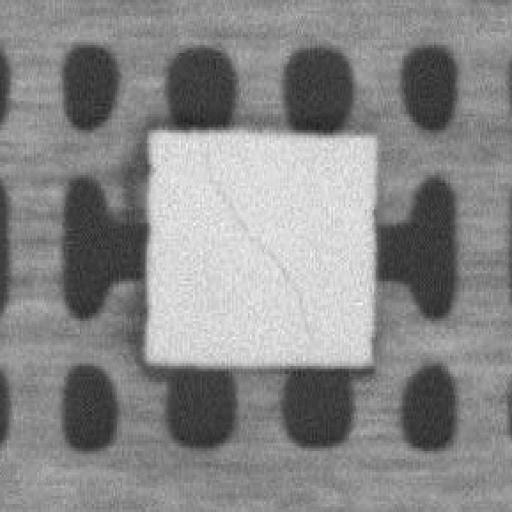DIE_CRACK: (204, 138, 308, 332)
